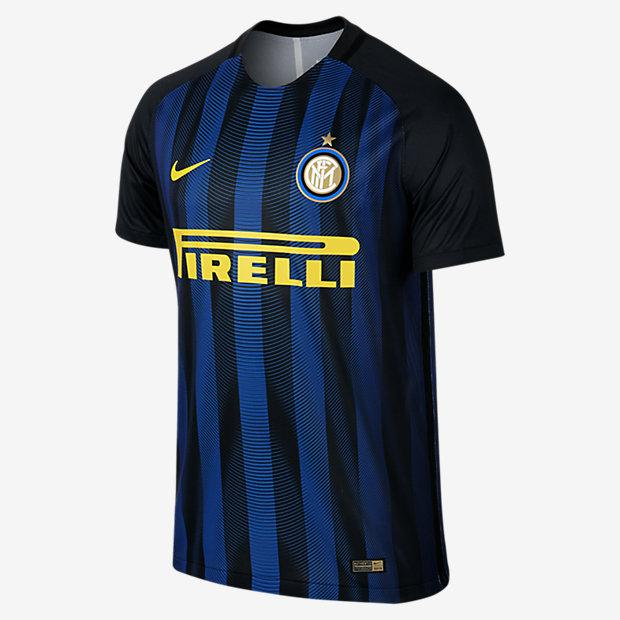teeshirt: (100, 13, 503, 620)
